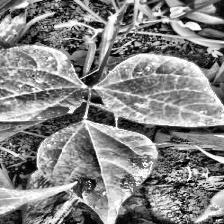Bean Rust: (97, 52, 224, 120), (0, 45, 88, 124), (0, 165, 75, 224)
